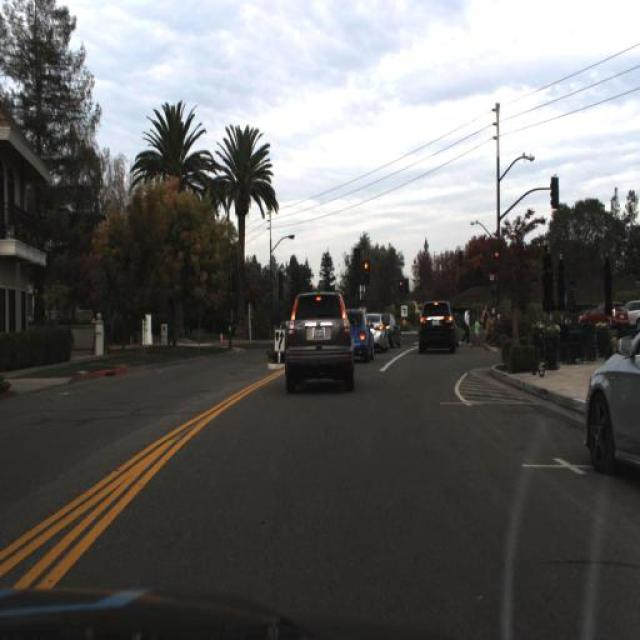car: (583, 324, 639, 484), (282, 290, 354, 382), (415, 300, 456, 349), (577, 299, 629, 331), (344, 308, 374, 357), (362, 312, 386, 352)
trafficLight: (460, 306, 471, 344), (472, 318, 482, 348)
trafficLight-RedLeft: (488, 244, 502, 278), (359, 258, 372, 283)
